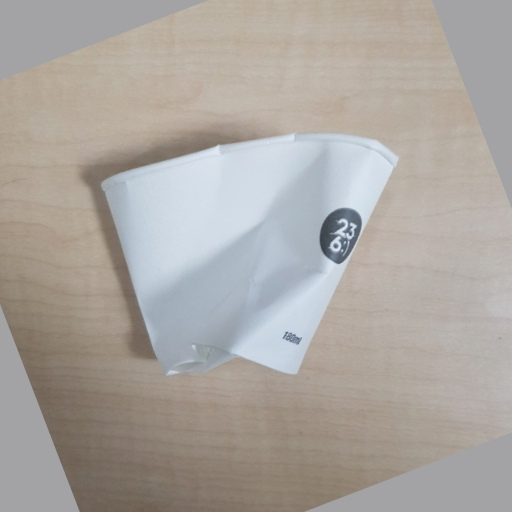Paper_1: (90, 130, 401, 381)
